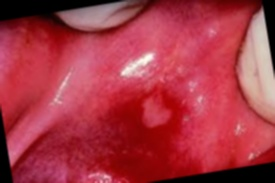Ulcer: (130, 85, 175, 130)
